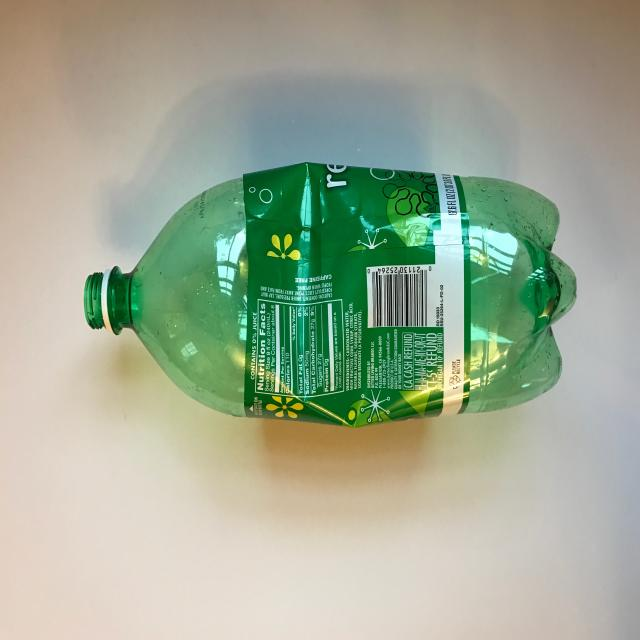plastic: (84, 160, 577, 428)
